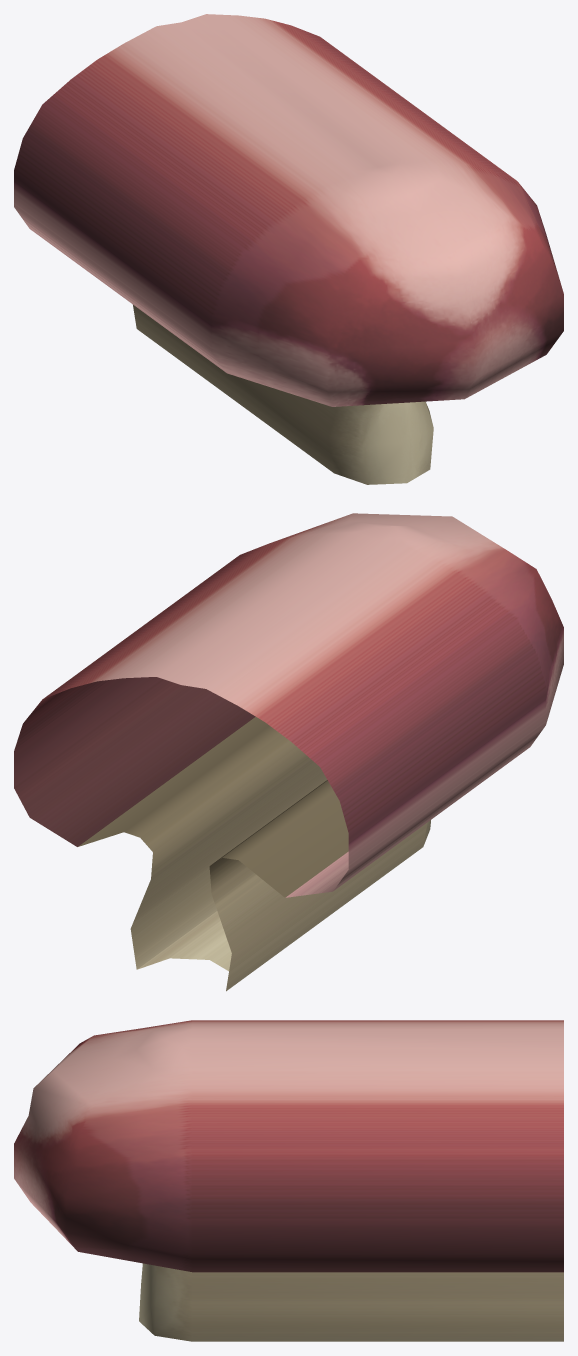
The model's file is 0217_kinoko04.fbx.
The picture shows the model from 3 angles, top to bottom: view 1: azimuth 30°, elevation 25°; view 2: azimuth 150°, elevation 25°; view 3: azimuth 270°, elevation 25°; orthographic projection. The views are drawn at different scales.
Parts seen in each view (by area): view 1: _0216_kinoko04:cylinder1; view 2: _0216_kinoko04:cylinder1; view 3: _0216_kinoko04:cylinder1.
Boxes of the visible parts, x1,y1,x2,y2 form: _0216_kinoko04:cylinder1: (14, 14, 563, 484); _0216_kinoko04:cylinder1: (14, 513, 563, 991); _0216_kinoko04:cylinder1: (14, 1020, 563, 1341).
Bounding box in the file's own units: 20.27 × 17.33 × 30.67.
